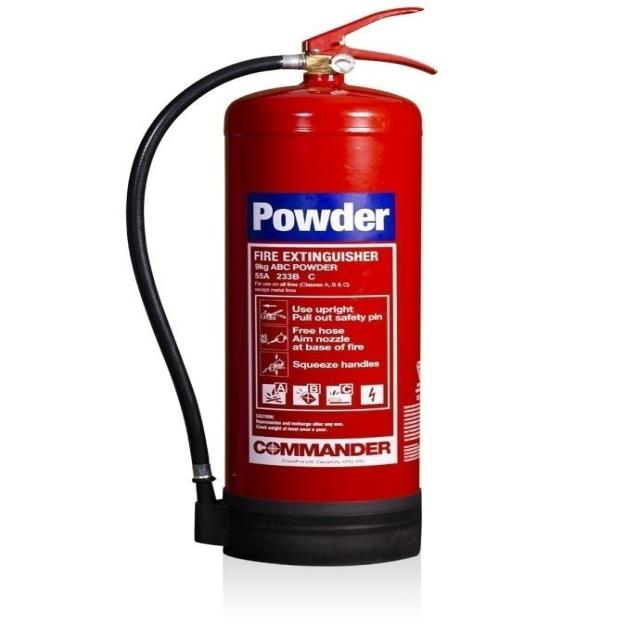fire_extinguisher: (112, 0, 447, 571)
